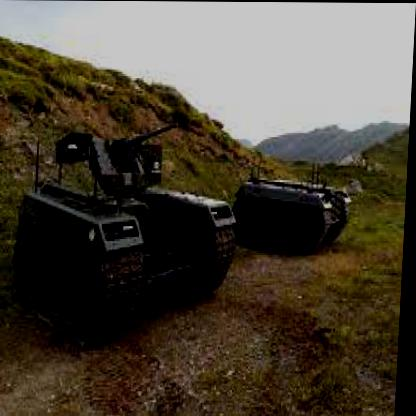UGV: (14, 122, 245, 348), (233, 177, 355, 254)
